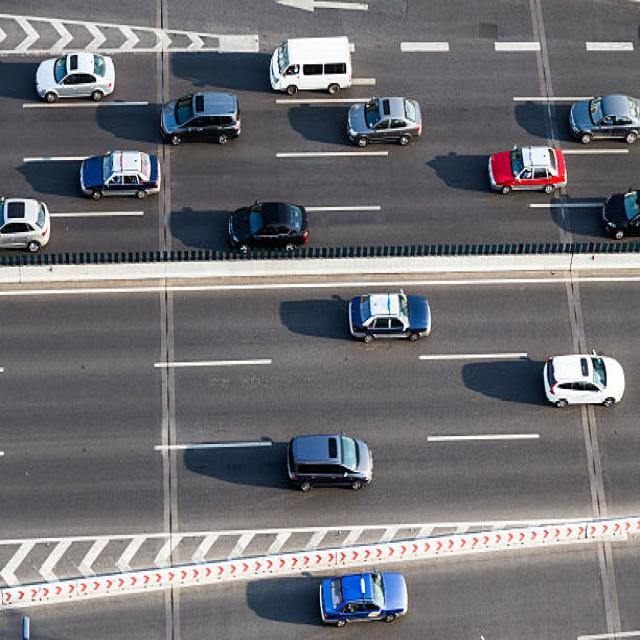moderate_traffic: (0, 0, 640, 261)
no-low traffic: (77, 268, 640, 520)
